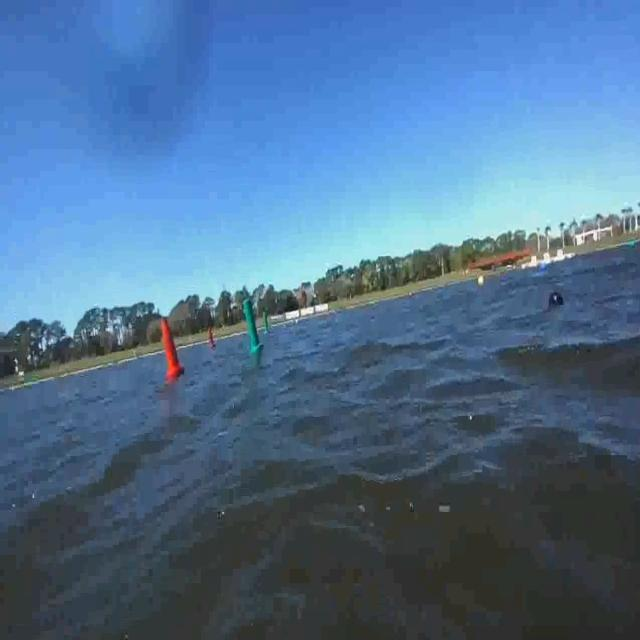black-buoy: (550, 289, 566, 307)
green-column-buoy: (243, 301, 264, 354), (264, 306, 271, 333)
red-column-buoy: (161, 321, 186, 380), (206, 323, 217, 348)
yellow-buoy: (478, 274, 486, 288)
